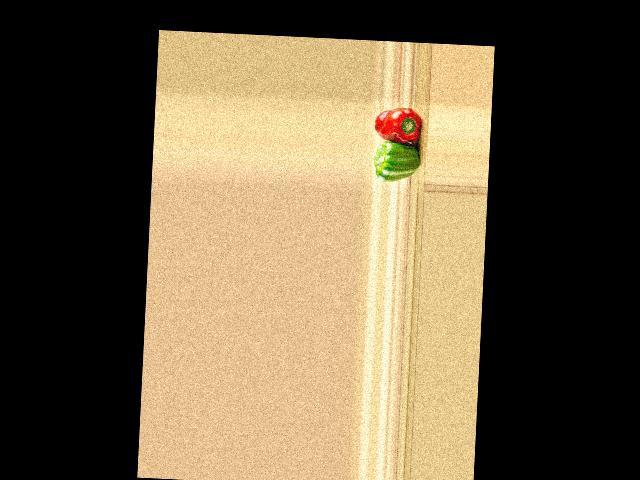bell_pepper: (373, 105, 422, 145)
